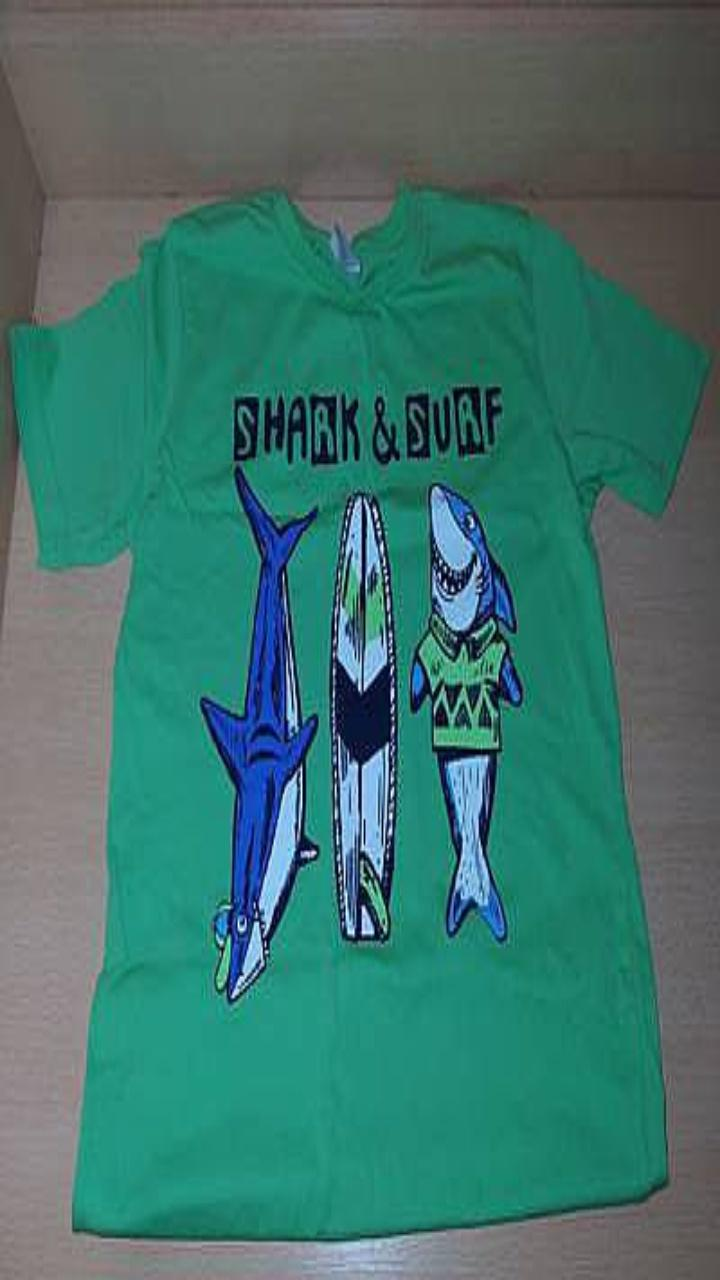T-Shirt: (10, 183, 709, 1237), (417, 611, 507, 751)
